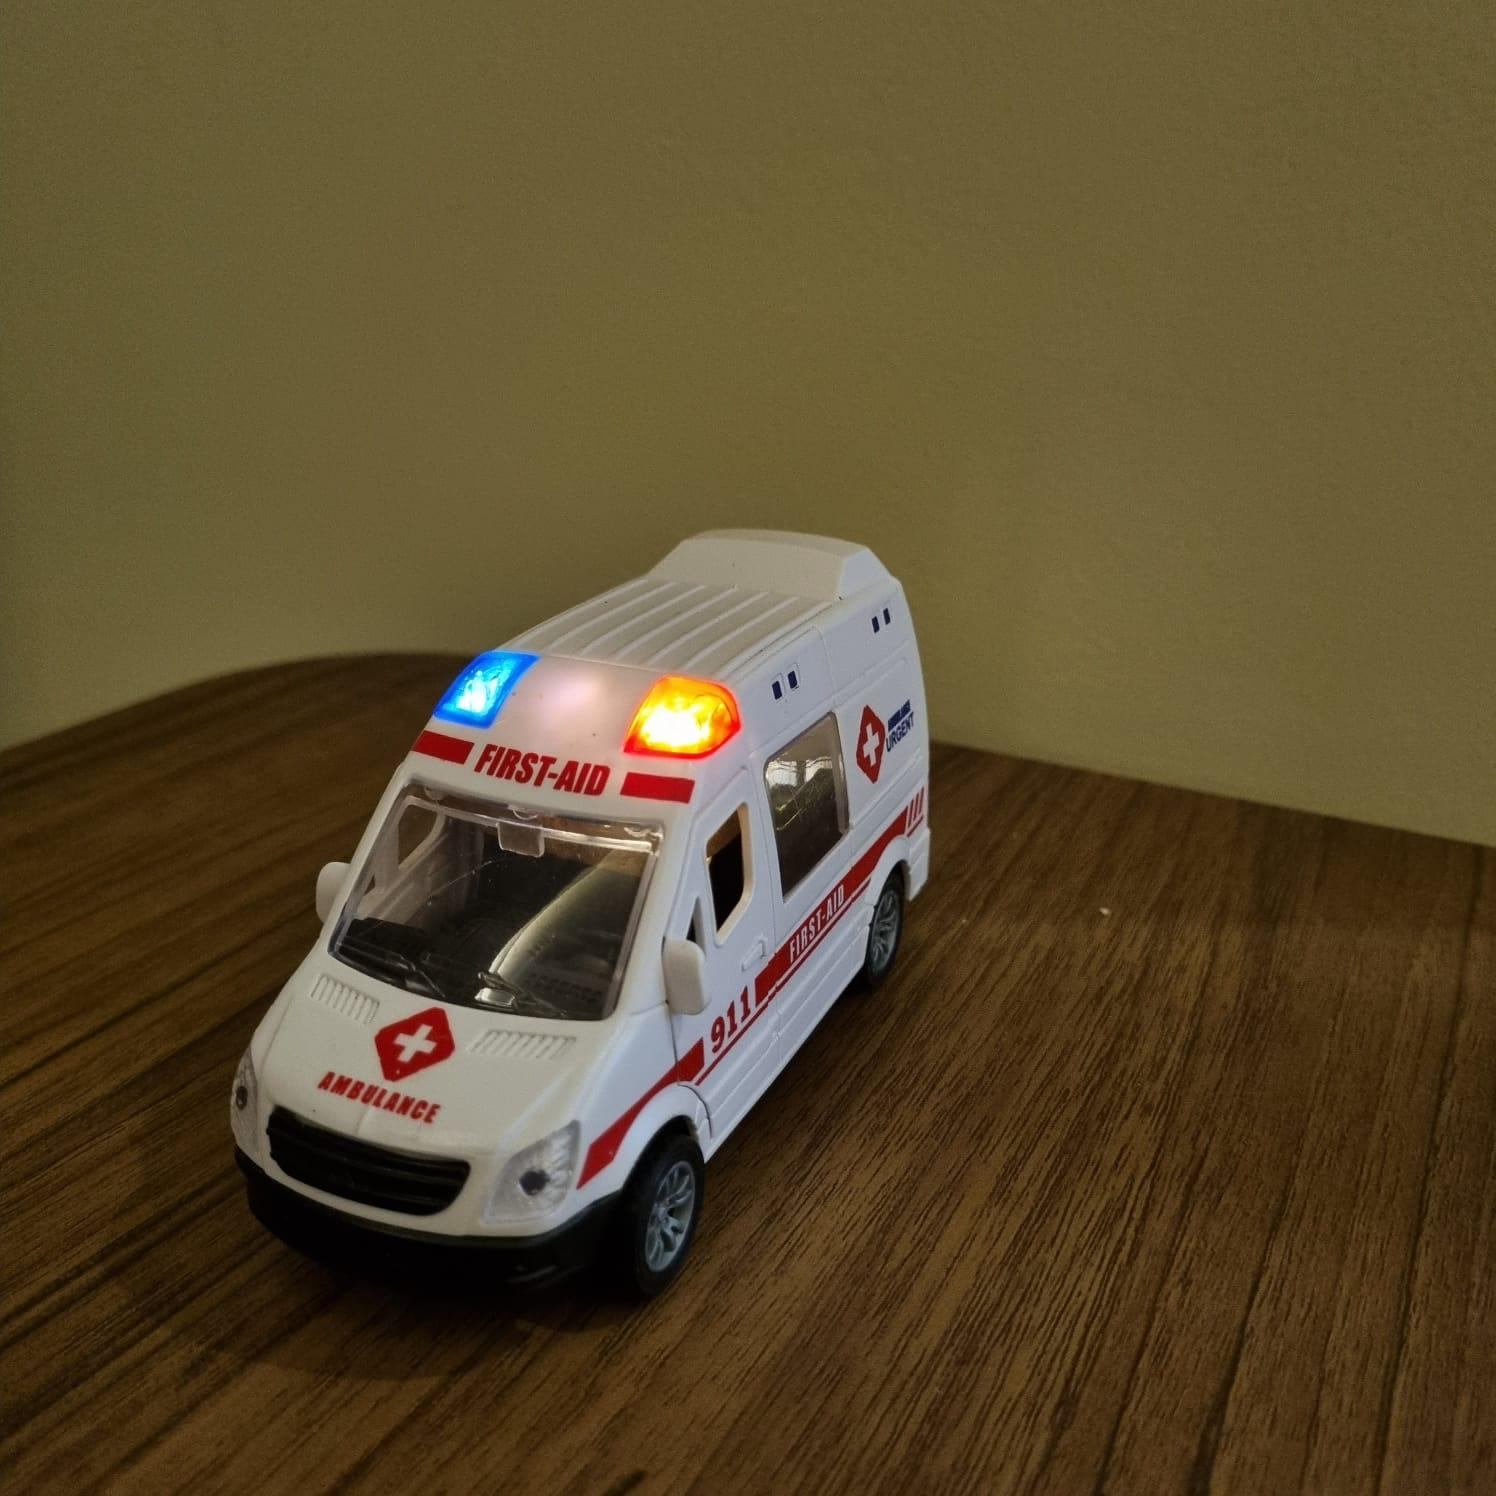ambulance_on: (230, 525, 930, 1293)
